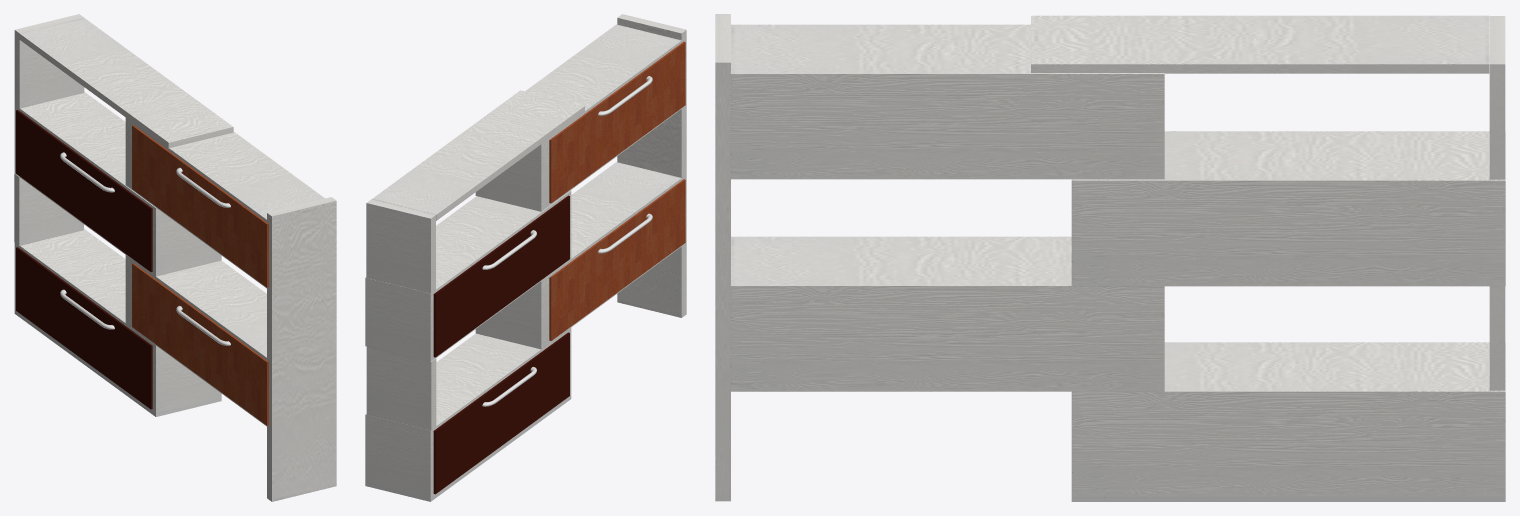
Rendered from Modern-Shelves.FBX.
3 renders of one model, left to right at view 1: azimuth 30°, elevation 25°; view 2: azimuth 150°, elevation 25°; view 3: azimuth 270°, elevation 25°, orthographic. The views are drawn at different scales.
Parts seen in each view (by area): view 1: Box013, Box012, Box010, Box005, Box008, Box003, Box006, Box001, Box009, Box007, Box011, Box004 (+1 smaller); view 2: Box012, Box006, Box001, Box009, Box005, Box008, Box010, Box003, Box007, Box013, Box011, Box004 (+1 smaller); view 3: Box007, Box006, Box001, Box009, Box012, Box013, Box011, Box002, Box004.
Boxes of the visible parts, bbox=[...] form: Box013: bbox=[267, 197, 336, 501]; Box012: bbox=[19, 18, 233, 148]; Box010: bbox=[132, 125, 268, 287]; Box005: bbox=[16, 110, 152, 271]; Box008: bbox=[132, 263, 268, 425]; Box003: bbox=[16, 247, 152, 409]; Box006: bbox=[14, 92, 221, 276]; Box001: bbox=[14, 229, 221, 413]; Box009: bbox=[125, 118, 324, 288]; Box007: bbox=[125, 255, 266, 426]; Box011: bbox=[14, 14, 84, 108]; Box004: bbox=[14, 173, 83, 245]; Box012: bbox=[372, 90, 584, 220]; Box006: bbox=[365, 190, 571, 361]; Box001: bbox=[365, 328, 571, 498]; Box009: bbox=[475, 24, 681, 211]; Box005: bbox=[433, 195, 569, 357]; Box008: bbox=[549, 179, 685, 340]; Box010: bbox=[549, 41, 685, 203]; Box003: bbox=[433, 332, 569, 494]; Box007: bbox=[475, 162, 681, 349]; Box013: bbox=[617, 14, 686, 317]; Box011: bbox=[366, 199, 435, 293]; Box004: bbox=[366, 346, 436, 430]; Box007: bbox=[730, 236, 1164, 391]; Box006: bbox=[1071, 131, 1505, 286]; Box001: bbox=[1071, 342, 1505, 497]; Box009: bbox=[730, 24, 1164, 179]; Box012: bbox=[1031, 15, 1489, 73]; Box013: bbox=[715, 14, 730, 501]; Box011: bbox=[1489, 16, 1505, 179]; Box002: bbox=[1071, 496, 1505, 501]; Box004: bbox=[1489, 286, 1505, 390].
Size of the model in its own units: 22.7 by 83.09 by 136.
